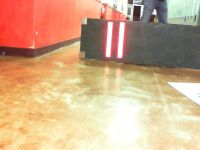switch: (116, 22, 125, 59), (105, 22, 113, 58)
